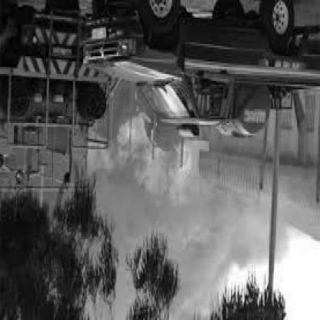Fire: (77, 111, 230, 248)
